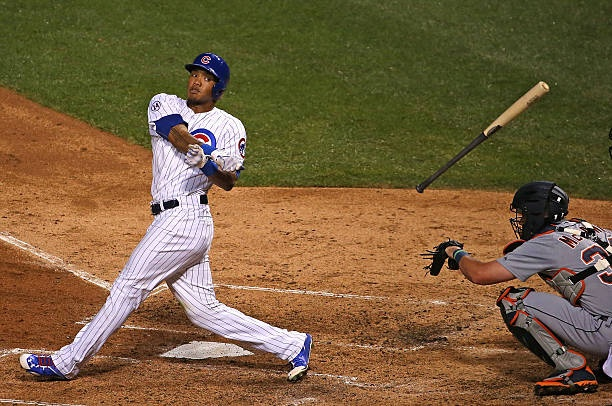bita: (412, 83, 550, 190)
